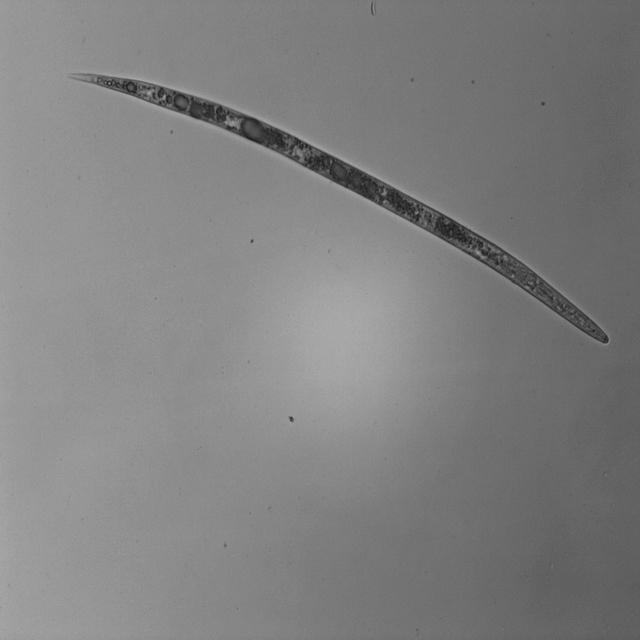Meloidogyne: (63, 66, 609, 348)
